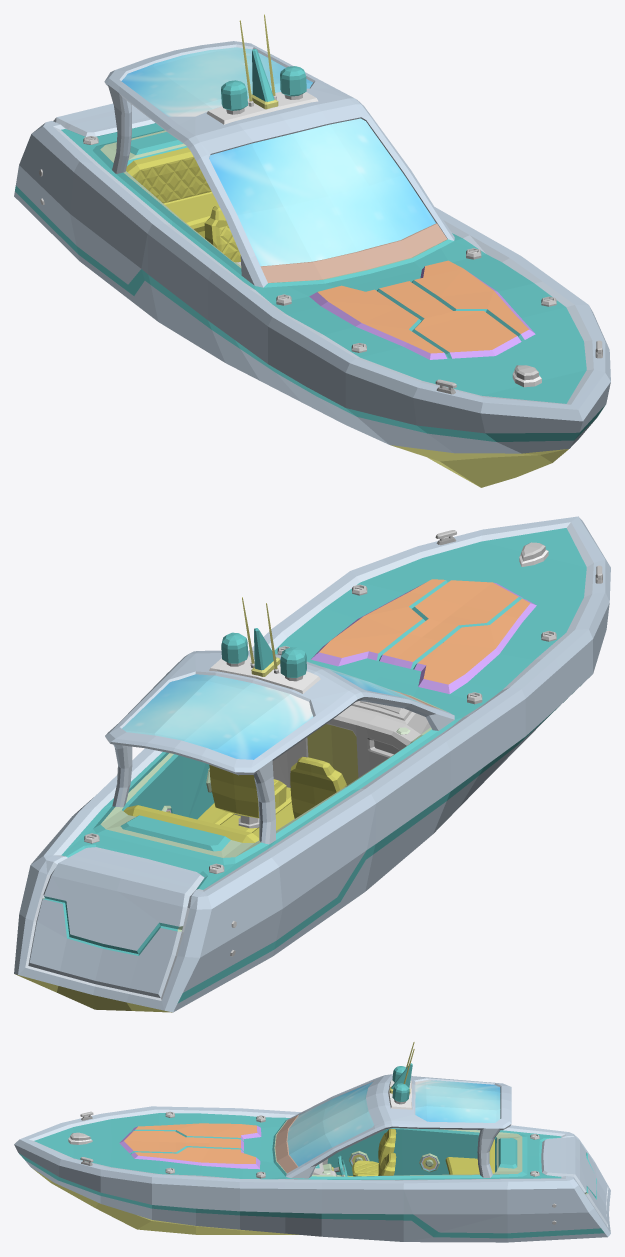
Rendered from Boat_02.fbx.
The picture shows the model from 3 angles, top to bottom: view 1: azimuth 30°, elevation 25°; view 2: azimuth 150°, elevation 25°; view 3: azimuth 270°, elevation 25°; orthographic projection. The views are drawn at different scales.
Visible parts, largest first — view 1: SM_Veh_Power_Boat_01; view 2: SM_Veh_Power_Boat_01; view 3: SM_Veh_Power_Boat_01.
Part boxes in pixels (x1=…): SM_Veh_Power_Boat_01: x1=14, y1=14, x2=610, y2=487; SM_Veh_Power_Boat_01: x1=14, y1=516, x2=610, y2=1012; SM_Veh_Power_Boat_01: x1=14, y1=1042, x2=610, y2=1242.
Bounding box in the file's own units: 307 × 356 × 1016.
